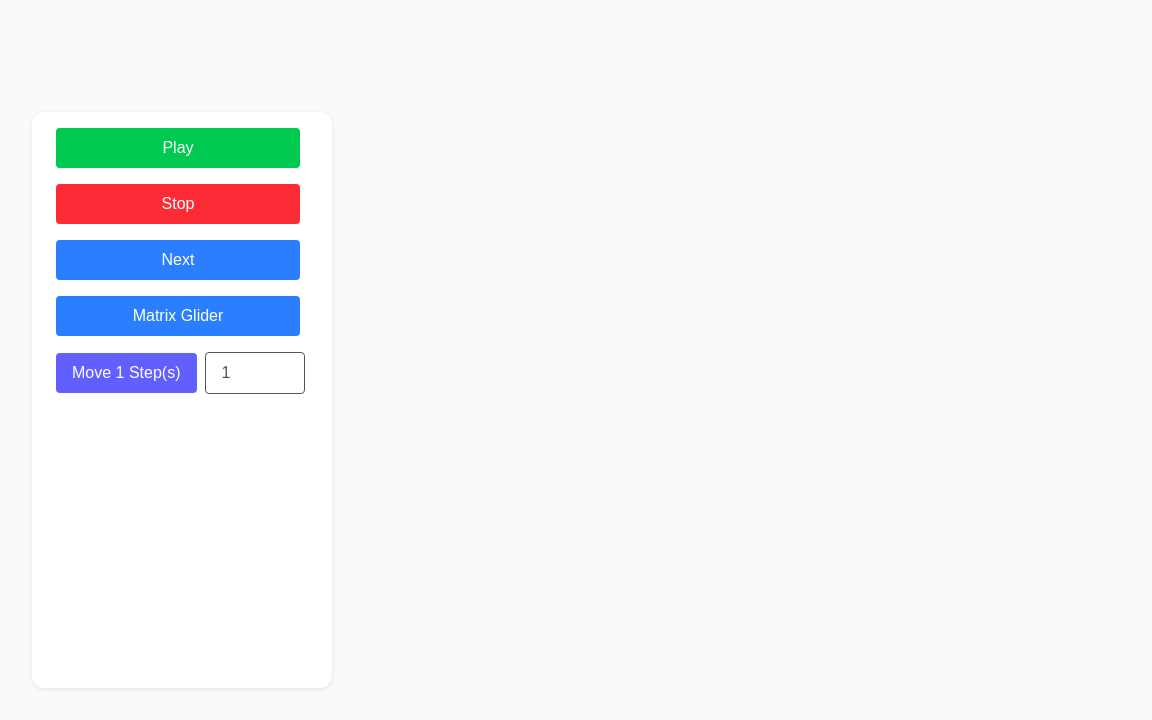
Scenario: Game Component › clicking Play button sets playing state to true
Click the button "Play" at {"x": 178, "y": 148}, box [56,128,300,168]
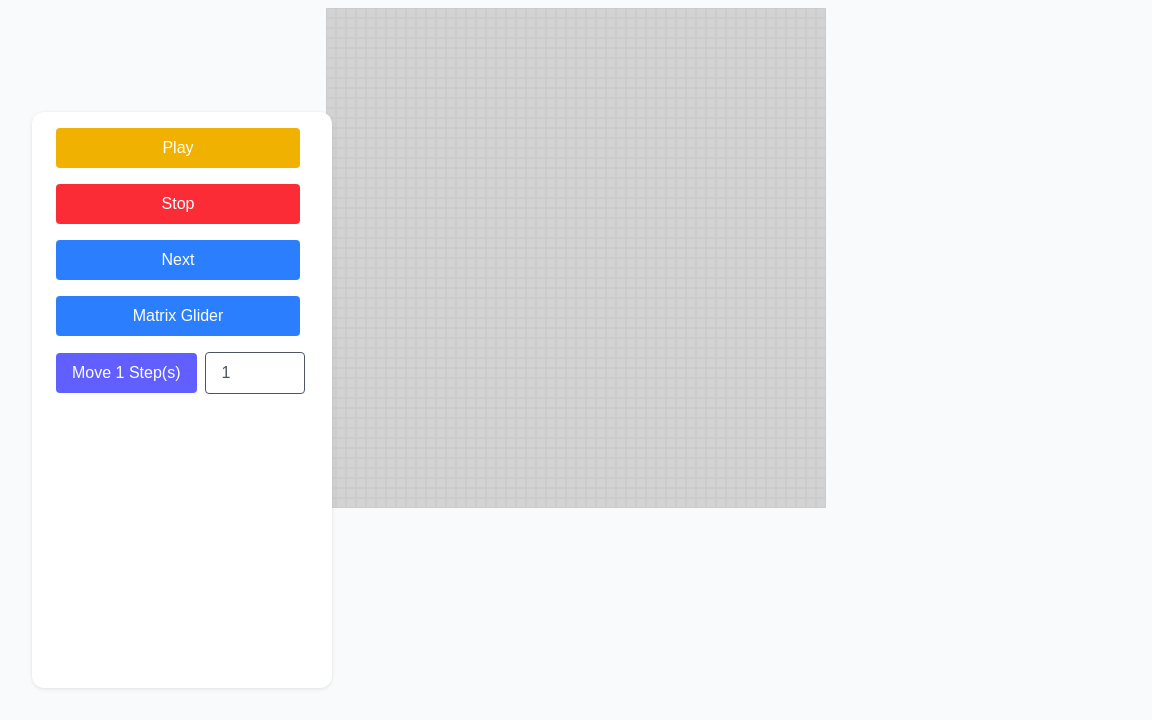
Check: the button "Stop" is enabled, box [56,184,300,224]
Check: the button "Play" is disabled, box [56,128,300,168]
